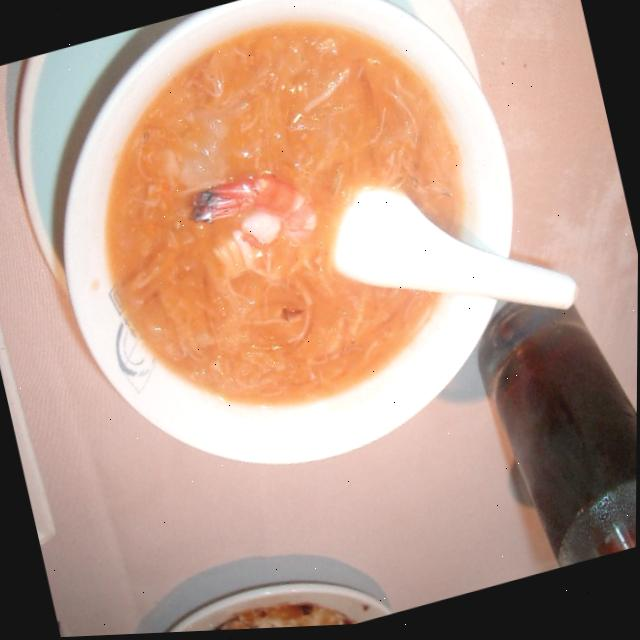汤锅炖物: (3, 0, 609, 538)
